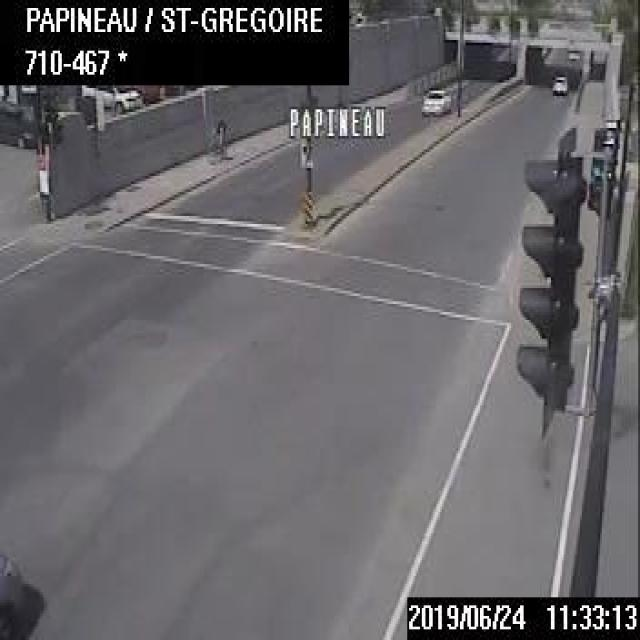pedestrian: (207, 116, 230, 162)
vehicle: (80, 84, 142, 115), (0, 99, 38, 149), (0, 550, 18, 638), (418, 85, 449, 115), (549, 72, 567, 93)
